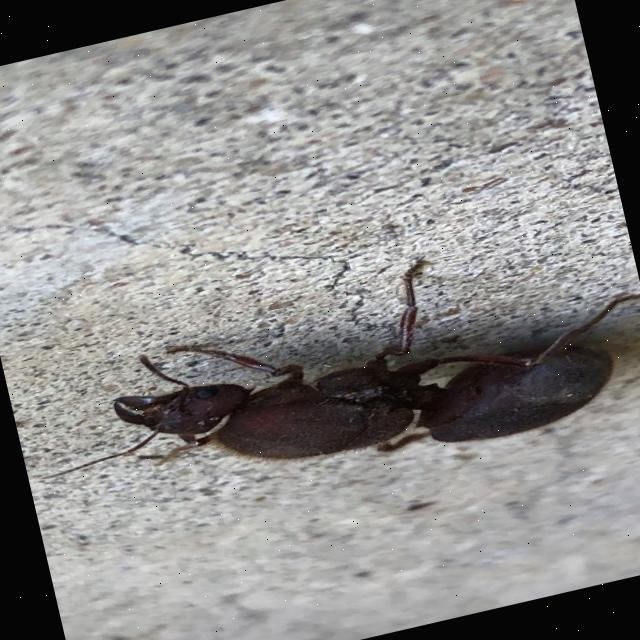Alive-Female-Dealate: (12, 213, 640, 540)
